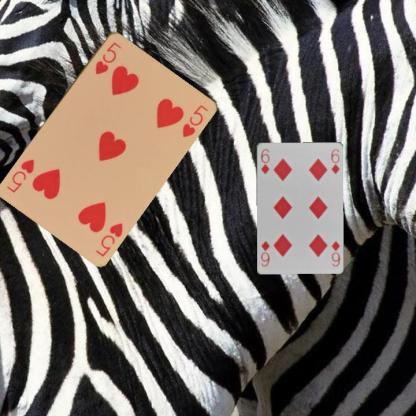5h: (92, 220, 124, 258), (93, 38, 122, 76)
6d: (329, 238, 341, 268), (258, 146, 270, 175)
